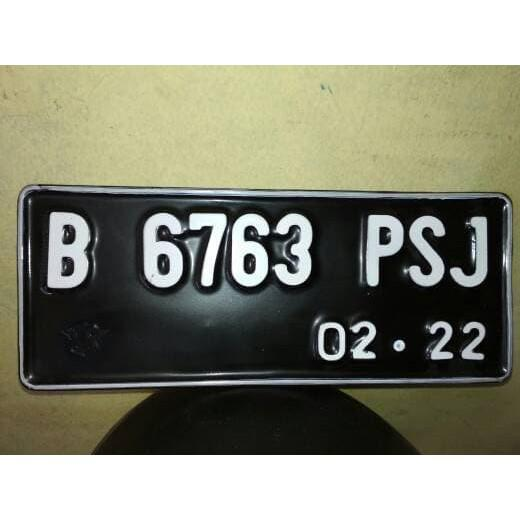3: (272, 208, 314, 292)
6: (136, 207, 189, 294), (229, 204, 271, 294)
7: (188, 204, 230, 294)
B: (40, 204, 100, 298)
J: (449, 210, 494, 290)
P: (361, 212, 405, 288)
S: (405, 210, 450, 291)
